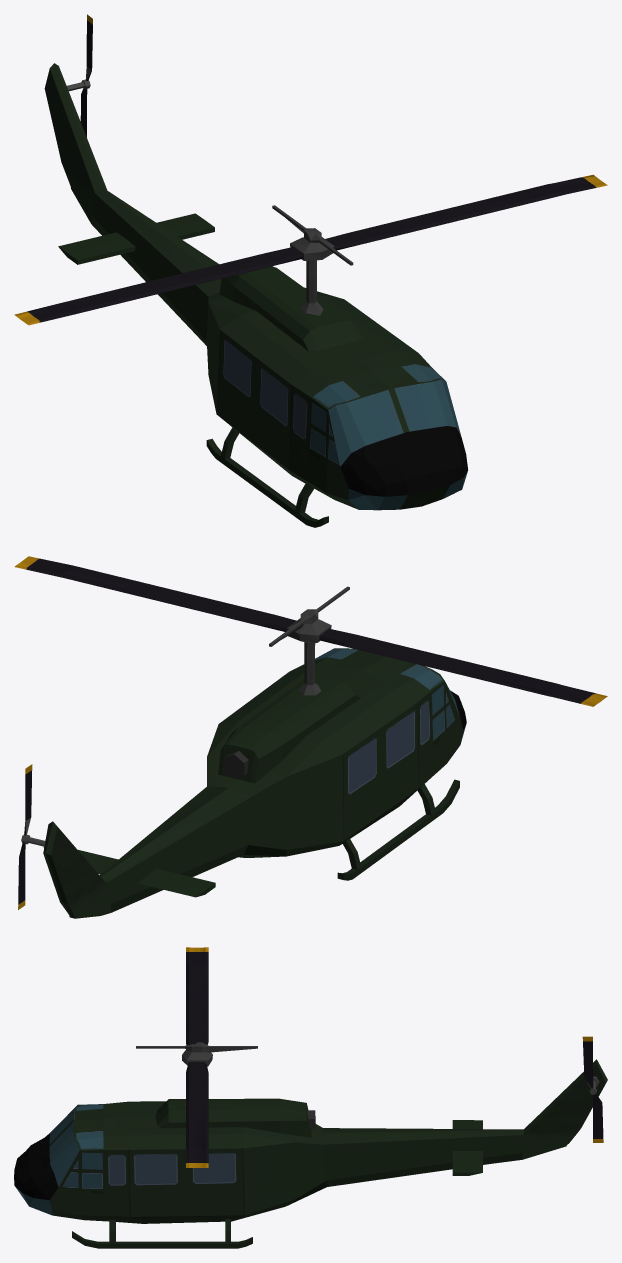
Rendered from Vehicles_UH1Crash.fbx.
The picture shows the model from 3 angles, top to bottom: view 1: azimuth 30°, elevation 25°; view 2: azimuth 150°, elevation 25°; view 3: azimuth 270°, elevation 25°; orthographic projection. The views are drawn at different scales.
Parts seen in each view (by area): view 1: Cube.001_Cube.001; view 2: Cube.001_Cube.001; view 3: Cube.001_Cube.001.
Boxes of the visible parts, x1,y1,x2,y2 form: Cube.001_Cube.001: [14, 14, 607, 527]; Cube.001_Cube.001: [14, 556, 607, 918]; Cube.001_Cube.001: [14, 947, 607, 1248].
Bounding box in the file's own units: 3805 × 1592 × 4352.
